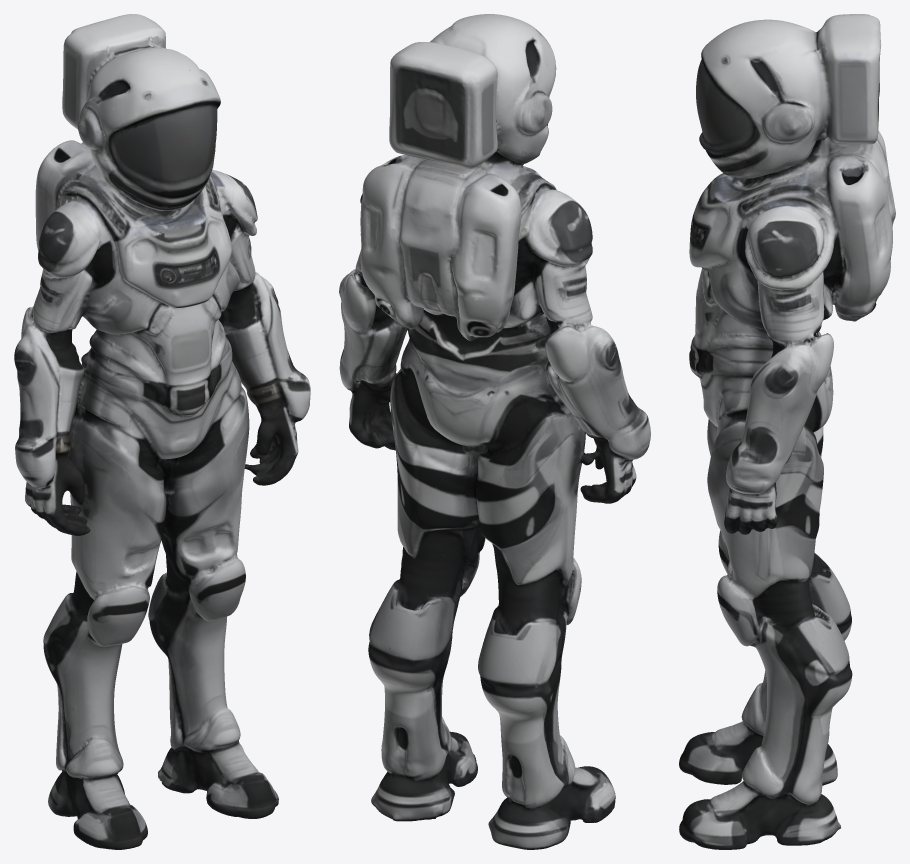
The model's file is astronaut_avatar.glb.
3 renders of one model, left to right at view 1: azimuth 30°, elevation 25°; view 2: azimuth 150°, elevation 25°; view 3: azimuth 270°, elevation 25°, orthographic. The views are drawn at different scales.
Size of the model in its own units: 0.8009 by 2 by 0.5058.
Materials: 1 (1 with a texture image).
